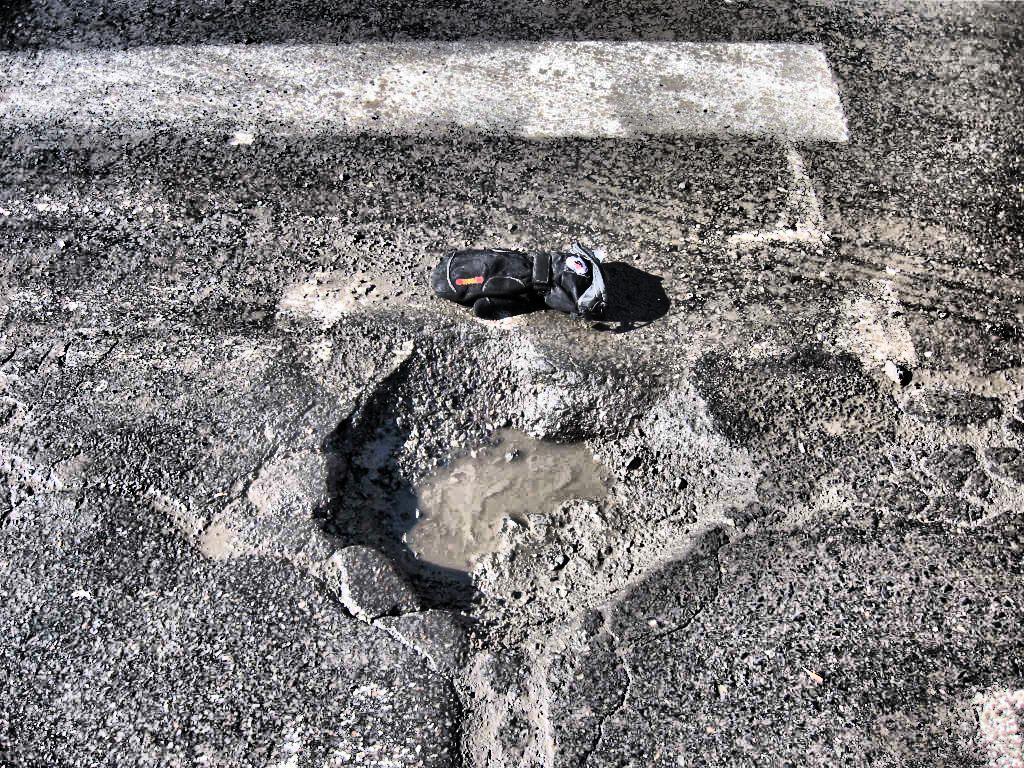pothole: (323, 319, 693, 642)
